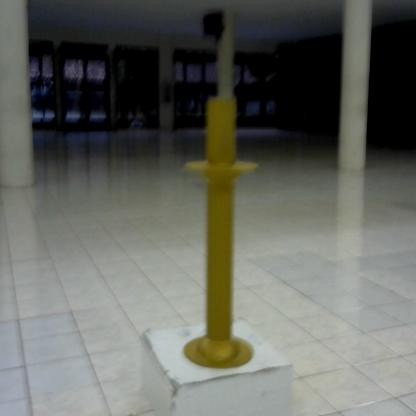pole: (176, 90, 265, 382)
